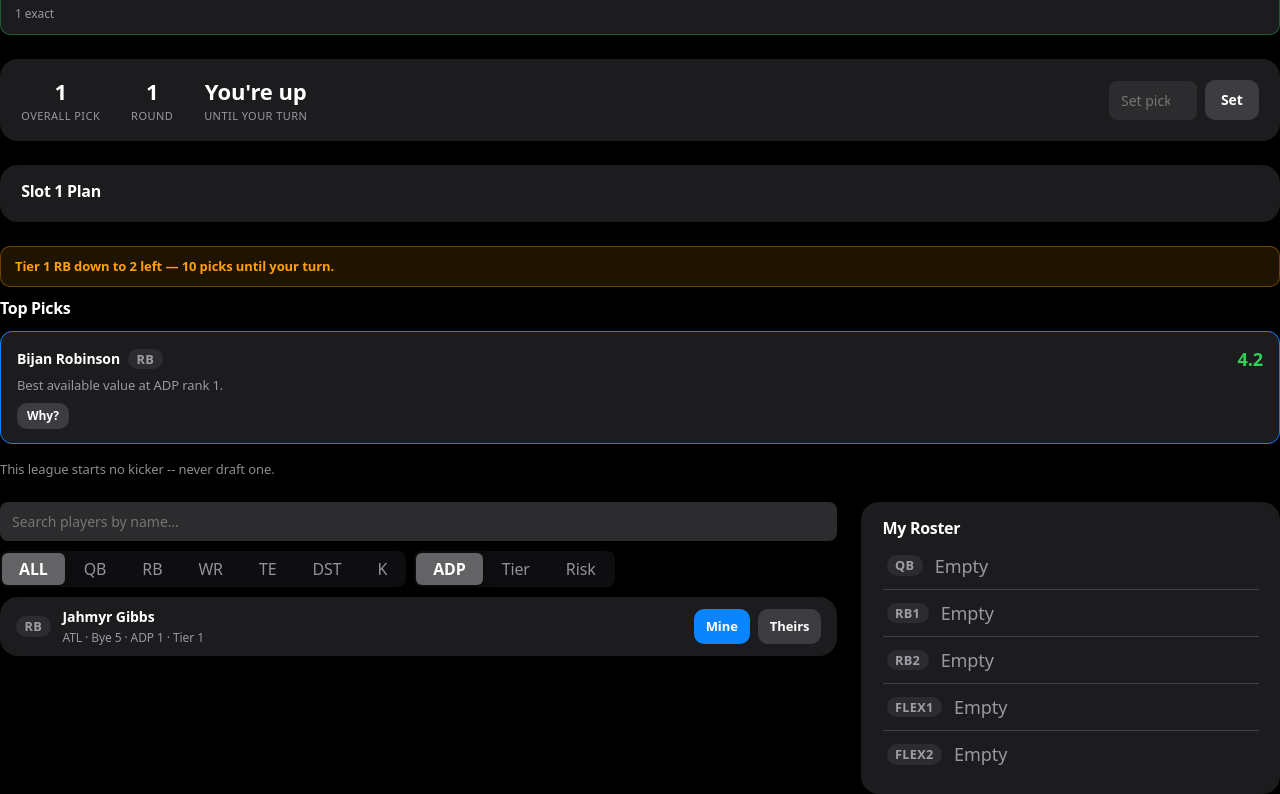
Draft screen › tapping a board row opens PlayerDetail with full scouting content
(page scrolled)
expect the element with test id "board-list" is shown: met, box [0, 502, 837, 656]
Click the button with aria-label "View scouting detail for Jahmyr Gibbs". click: coordinates (109, 617)
box: [62, 607, 682, 646]
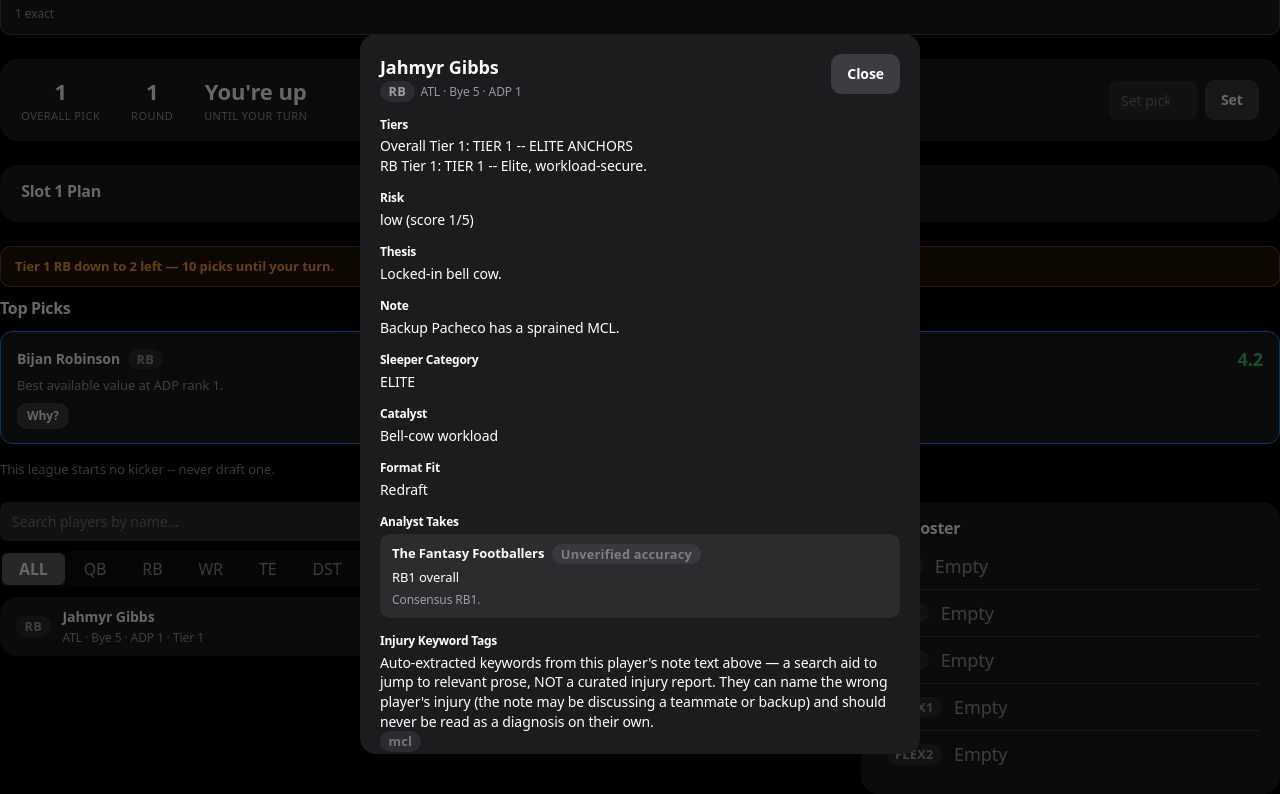
expect the text "Locked-in bell cow." is shown: met, box [380, 264, 502, 283]
expect the text "Backup Pacheco has a sprained MCL." is shown: met, box [380, 318, 620, 337]
expect the text "ELITE" is shown: met, box [380, 372, 415, 391]
Click the button with aria-label "Close Jahmyr Gibbs detail". click: coordinates (866, 74)
box: [831, 54, 900, 94]
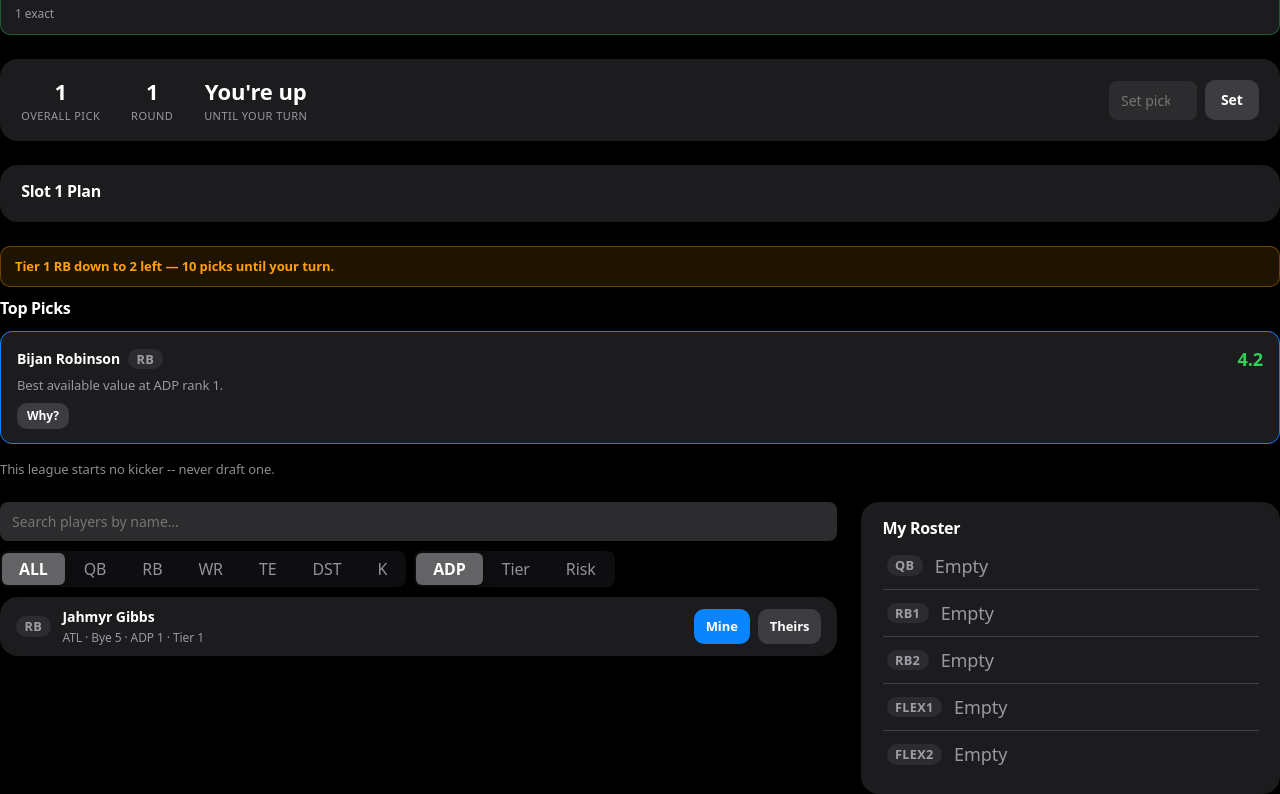
expect the dialog with test id "player-detail" is gone: met
